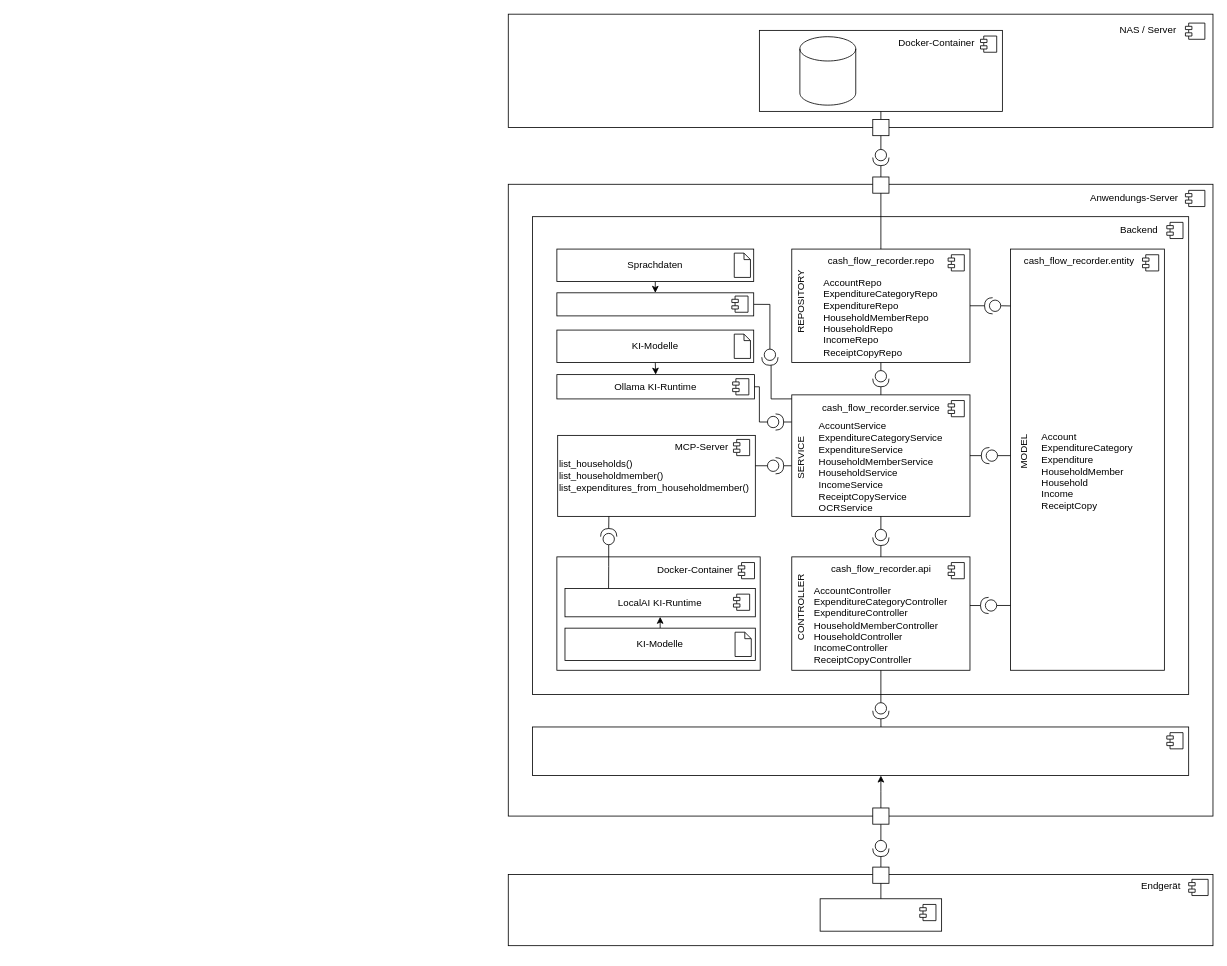
This 1227x966 diagram has some shape labels left out. The shapes that lost their labels are listed below. From the top down, each one's centre as x and y in pixels, then its label:
At pixel 827 70: "PostgreSQL".
At pixel 655 304: "TesseractOCR Engine".
At pixel 860 751: "Frontend".
At pixel 880 914: "Webbrowser".
